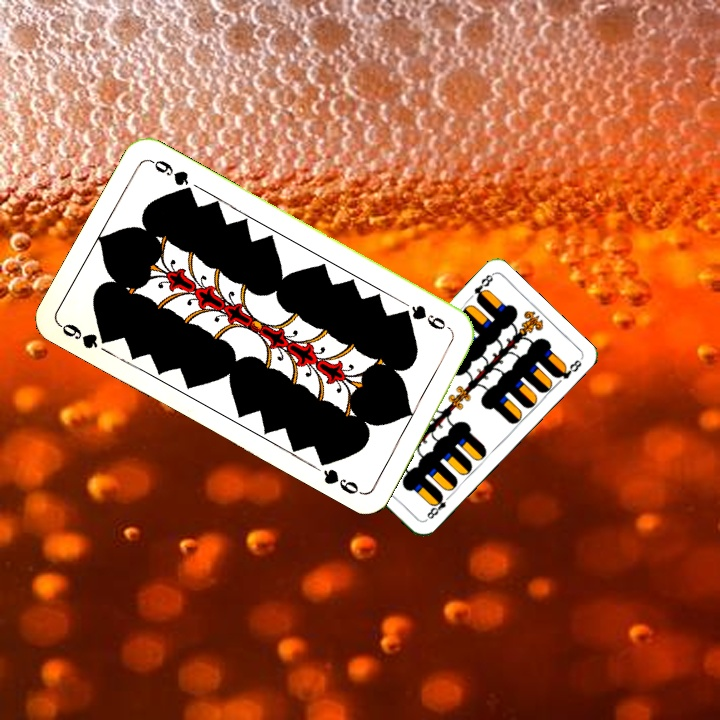E8: (421, 490, 454, 523), (470, 270, 496, 304)
G9: (56, 319, 115, 352), (398, 301, 454, 334)
